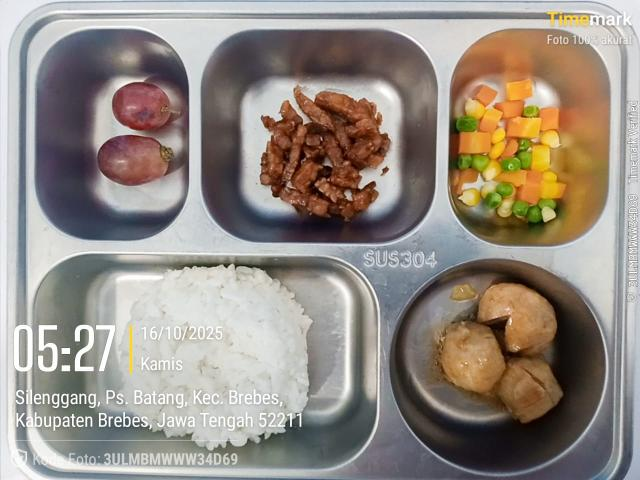bakso: (440, 283, 563, 422)
buah: (98, 134, 173, 186), (112, 82, 174, 130)
nasi: (121, 265, 312, 450)
sayur: (450, 74, 603, 236)
tempe: (259, 86, 390, 220)
